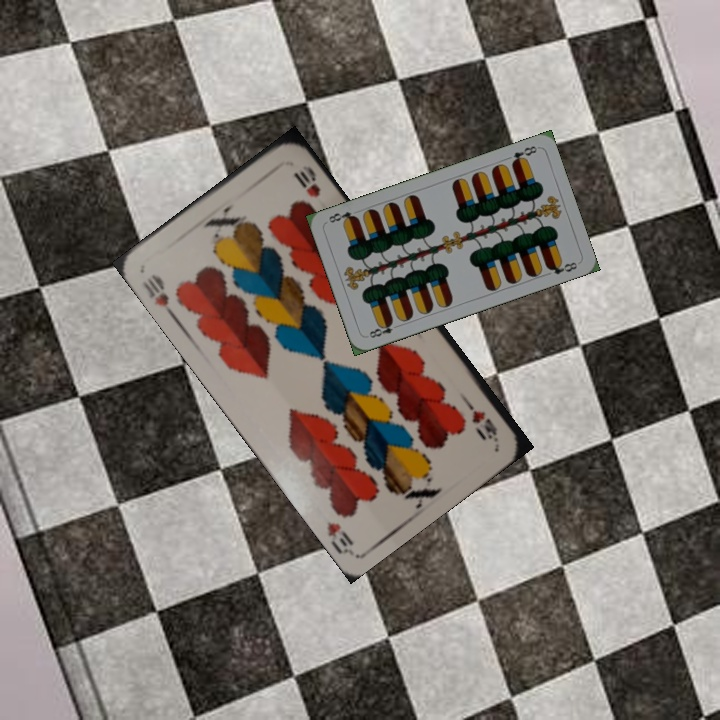E8: (363, 317, 403, 341), (507, 142, 540, 168)
H10: (458, 393, 500, 443), (137, 270, 178, 321)
